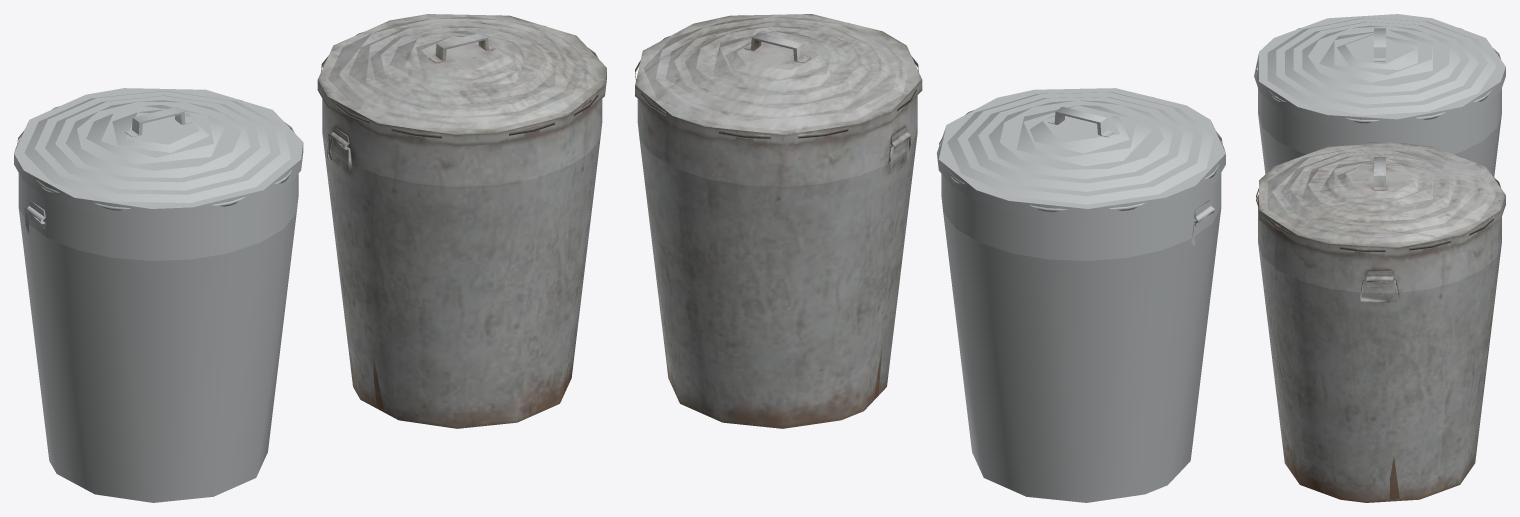
File: trash_can.glb
3 renders of one model, left to right at view 1: azimuth 30°, elevation 25°; view 2: azimuth 150°, elevation 25°; view 3: azimuth 270°, elevation 25°, orthographic. The views are drawn at different scales.
Parts seen in each view (by area): view 1: Object_3, Object_2; view 2: Object_3, Object_2; view 3: Object_2, Object_3.
Boxes of the visible parts, box(x1,y1,x2,y2) form: Object_3: box(14, 88, 303, 502); Object_2: box(317, 14, 606, 428); Object_3: box(937, 88, 1225, 502); Object_2: box(635, 14, 922, 428); Object_2: box(1256, 142, 1505, 502); Object_3: box(1254, 14, 1505, 176).
Size of the model in its own units: 2.01 by 1.18 by 0.9108.
2 materials, 1 textured.
